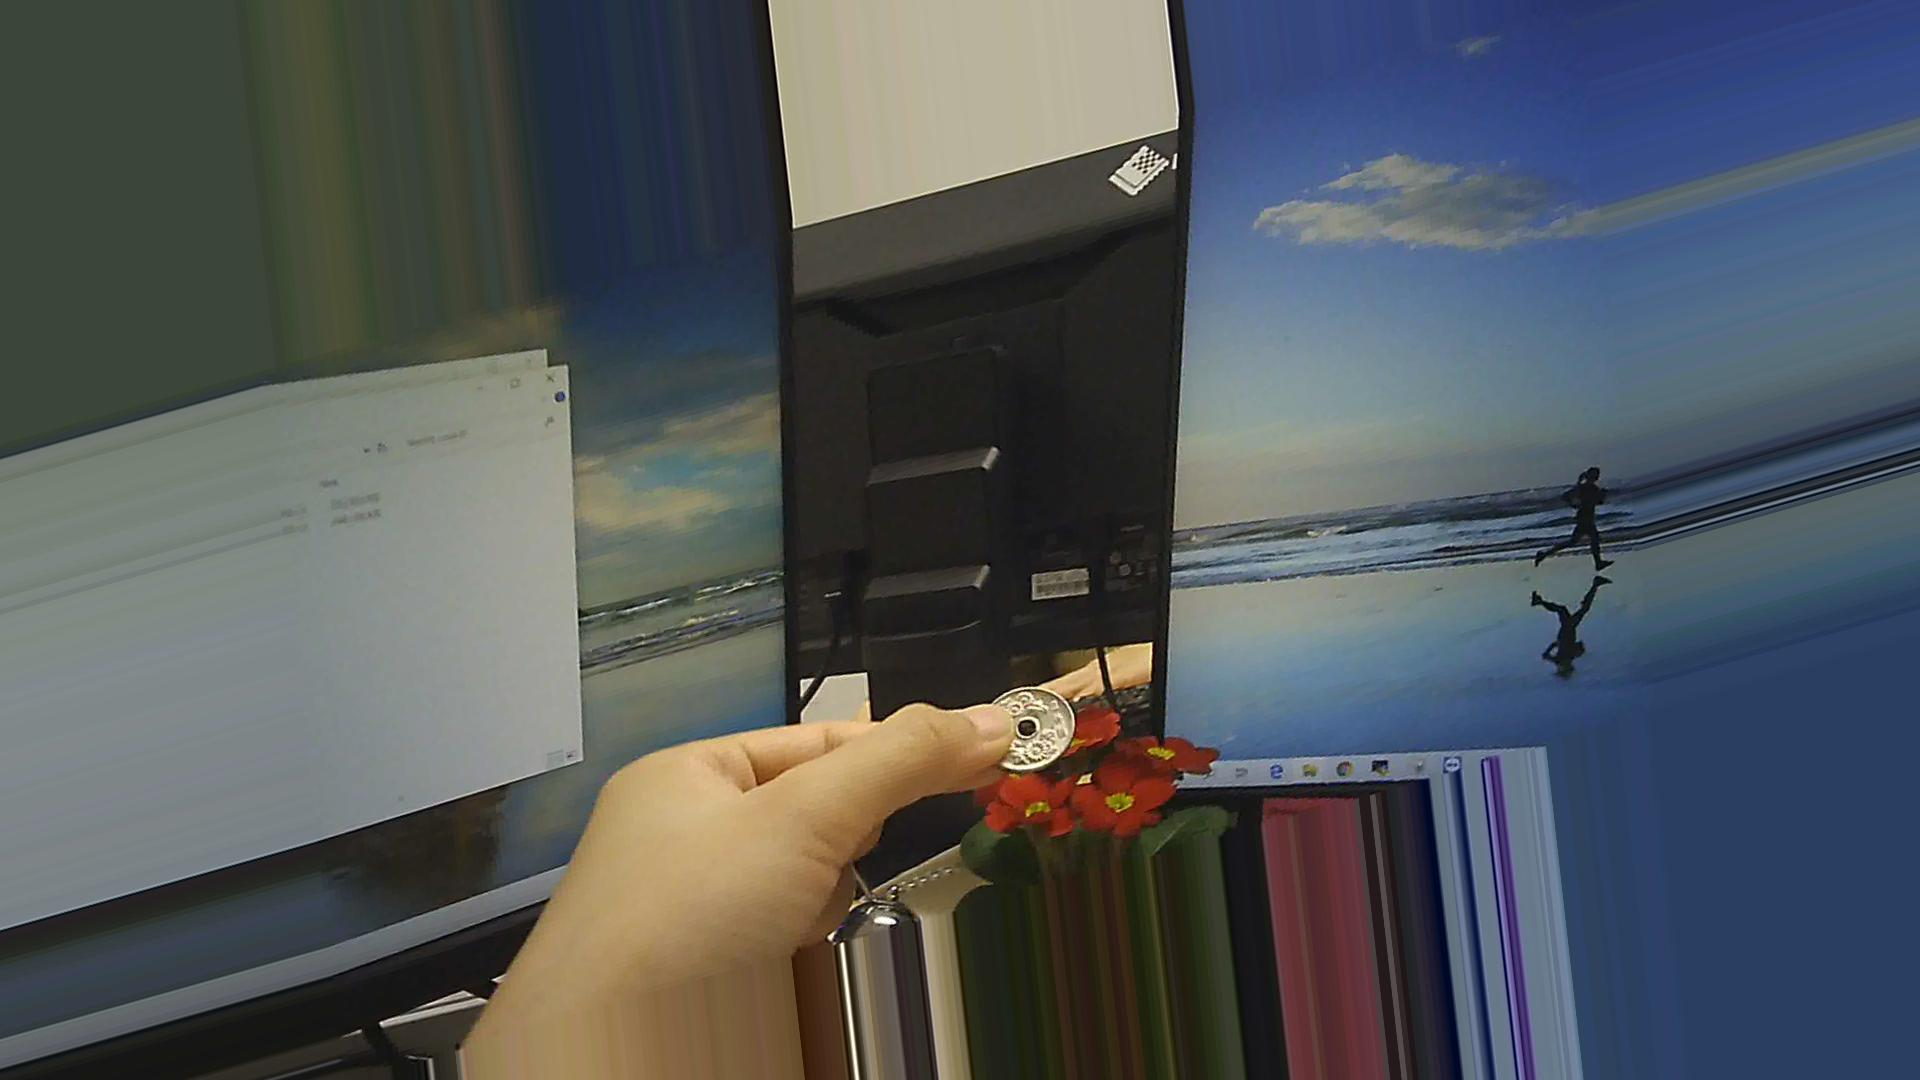50 Yen: (976, 676, 1087, 778)
